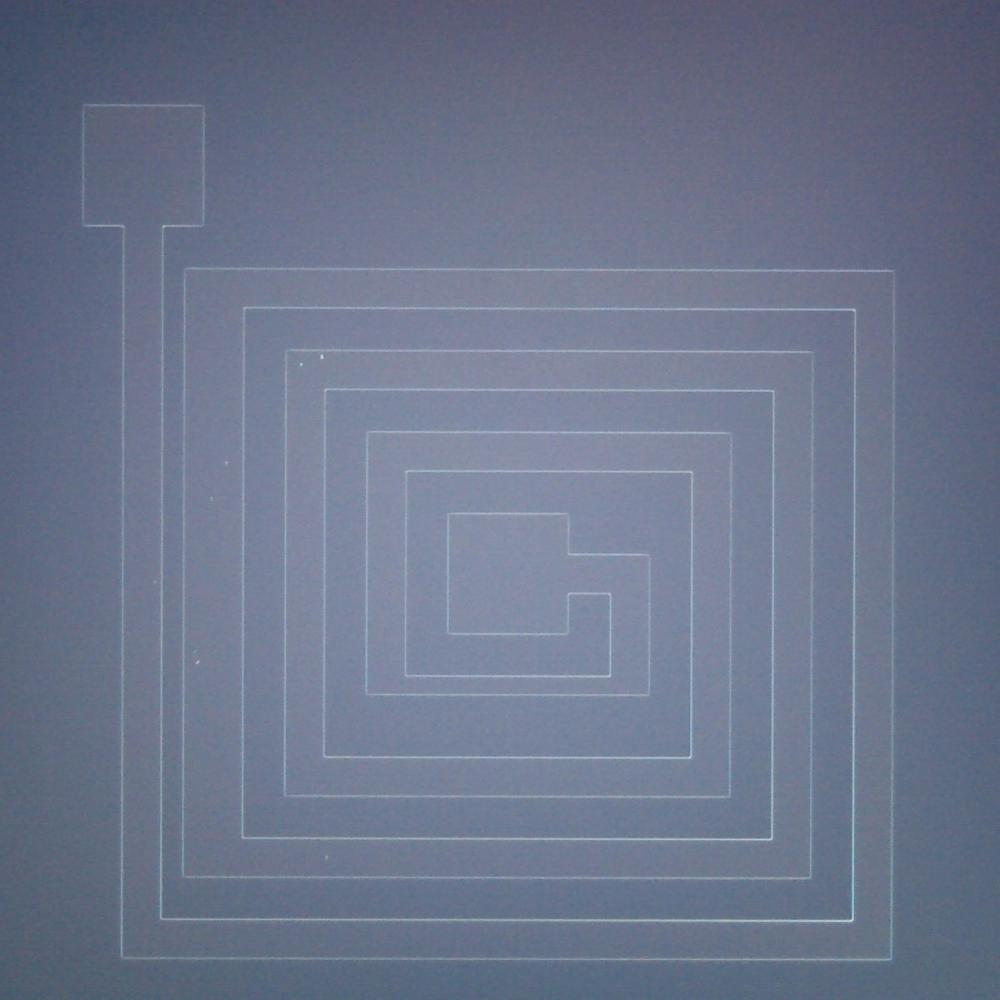dot: (319, 354, 324, 360), (324, 854, 329, 859), (195, 660, 200, 664), (299, 362, 303, 366), (224, 460, 228, 464)
